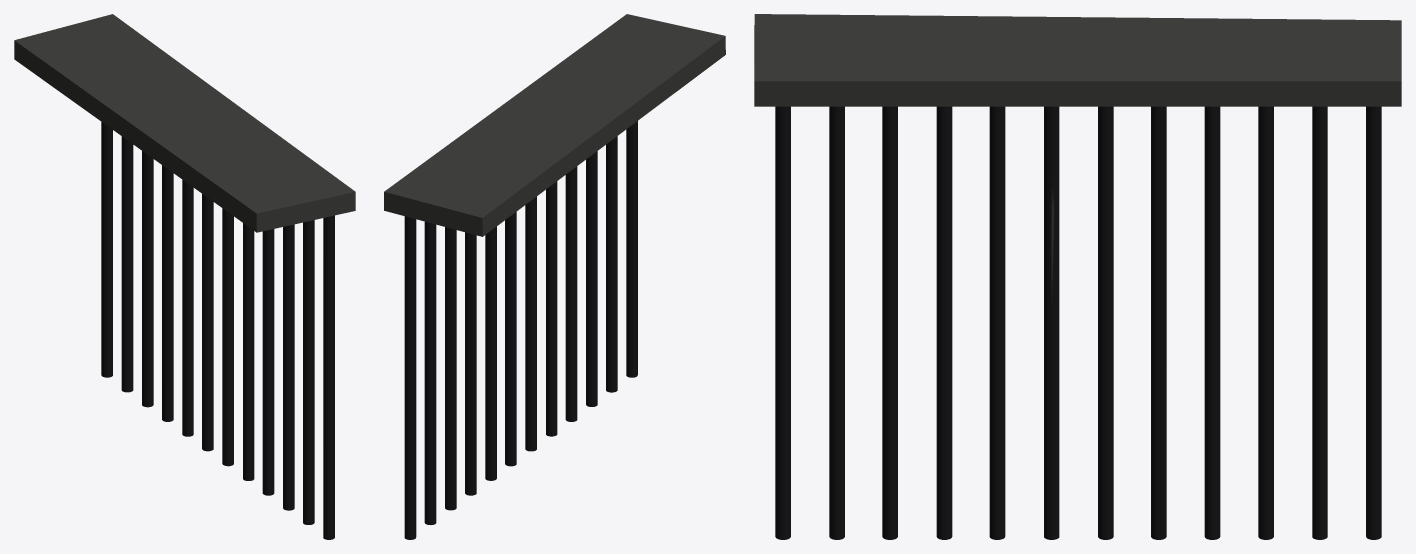
Rendered from Jail Bars Full Model.fbx.
3 renders of one model, left to right at view 1: azimuth 30°, elevation 25°; view 2: azimuth 150°, elevation 25°; view 3: azimuth 270°, elevation 25°, orthographic. The views are drawn at different scales.
Visible parts, largest first — view 1: pCylinder13; view 2: pCylinder13; view 3: pCylinder13.
Part boxes in pixels (x1,y1,x2,y2): pCylinder13: [14, 14, 355, 539]; pCylinder13: [384, 14, 725, 539]; pCylinder13: [754, 14, 1401, 539].
Size of the model in its own units: 2.83 by 9.62 by 12.04.
